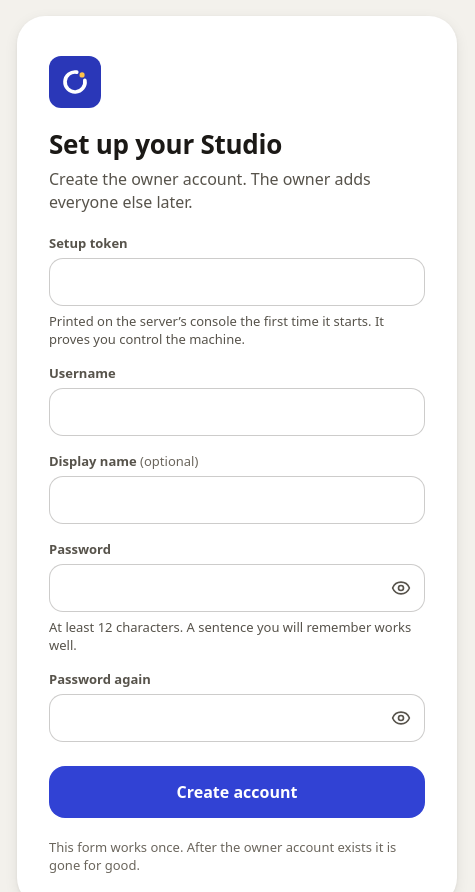
Scenario: first-run setup › points at every field that is missing and sends nothing
The image size is (475, 892).
Click the button "Create account" at {"x": 237, "y": 792}, box [49,766,425,818]
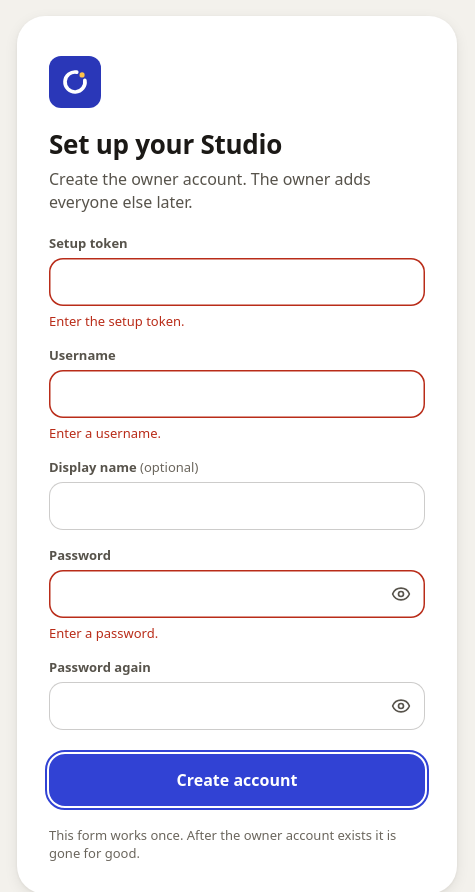
Check: the text "Enter the setup token." is shown, box [49,312,184,330]
Check: the text "Enter a username." is shown, box [49,424,161,442]
Check: the text "Enter a password." is shown, box [49,624,158,642]
